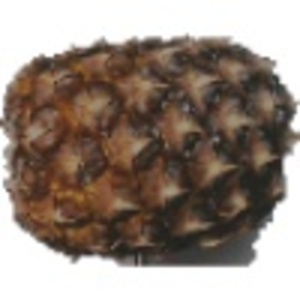abacaxi: (6, 24, 283, 253)
